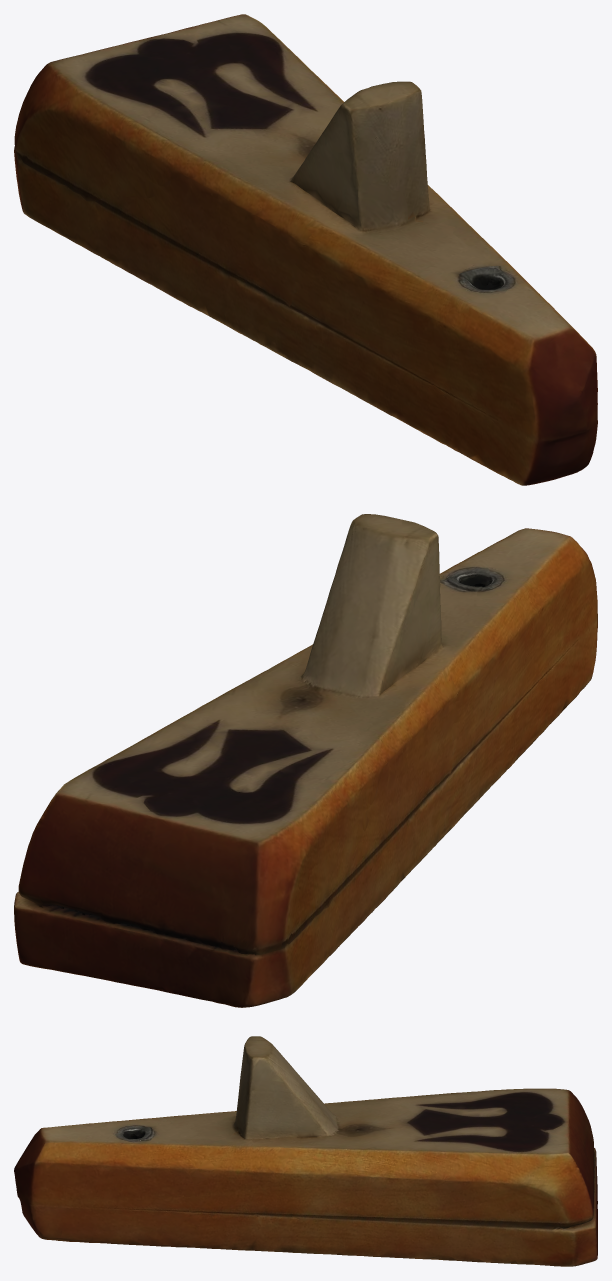
The model's file is shanqobyz.glb.
3 renders of one model, top to bottom at view 1: azimuth 30°, elevation 25°; view 2: azimuth 150°, elevation 25°; view 3: azimuth 270°, elevation 25°, orthographic. The views are drawn at different scales.
Visible parts, largest first — view 1: Polygon Reduction; view 2: Polygon Reduction; view 3: Polygon Reduction.
Boxes of the visible parts, x1,y1,x2,y2 form: Polygon Reduction: (14, 14, 597, 485); Polygon Reduction: (14, 514, 597, 1007); Polygon Reduction: (14, 1036, 597, 1266).
Bounding box in the file's own units: 83.69 × 82.59 × 243.
Materials: 1 (1 with a texture image).
